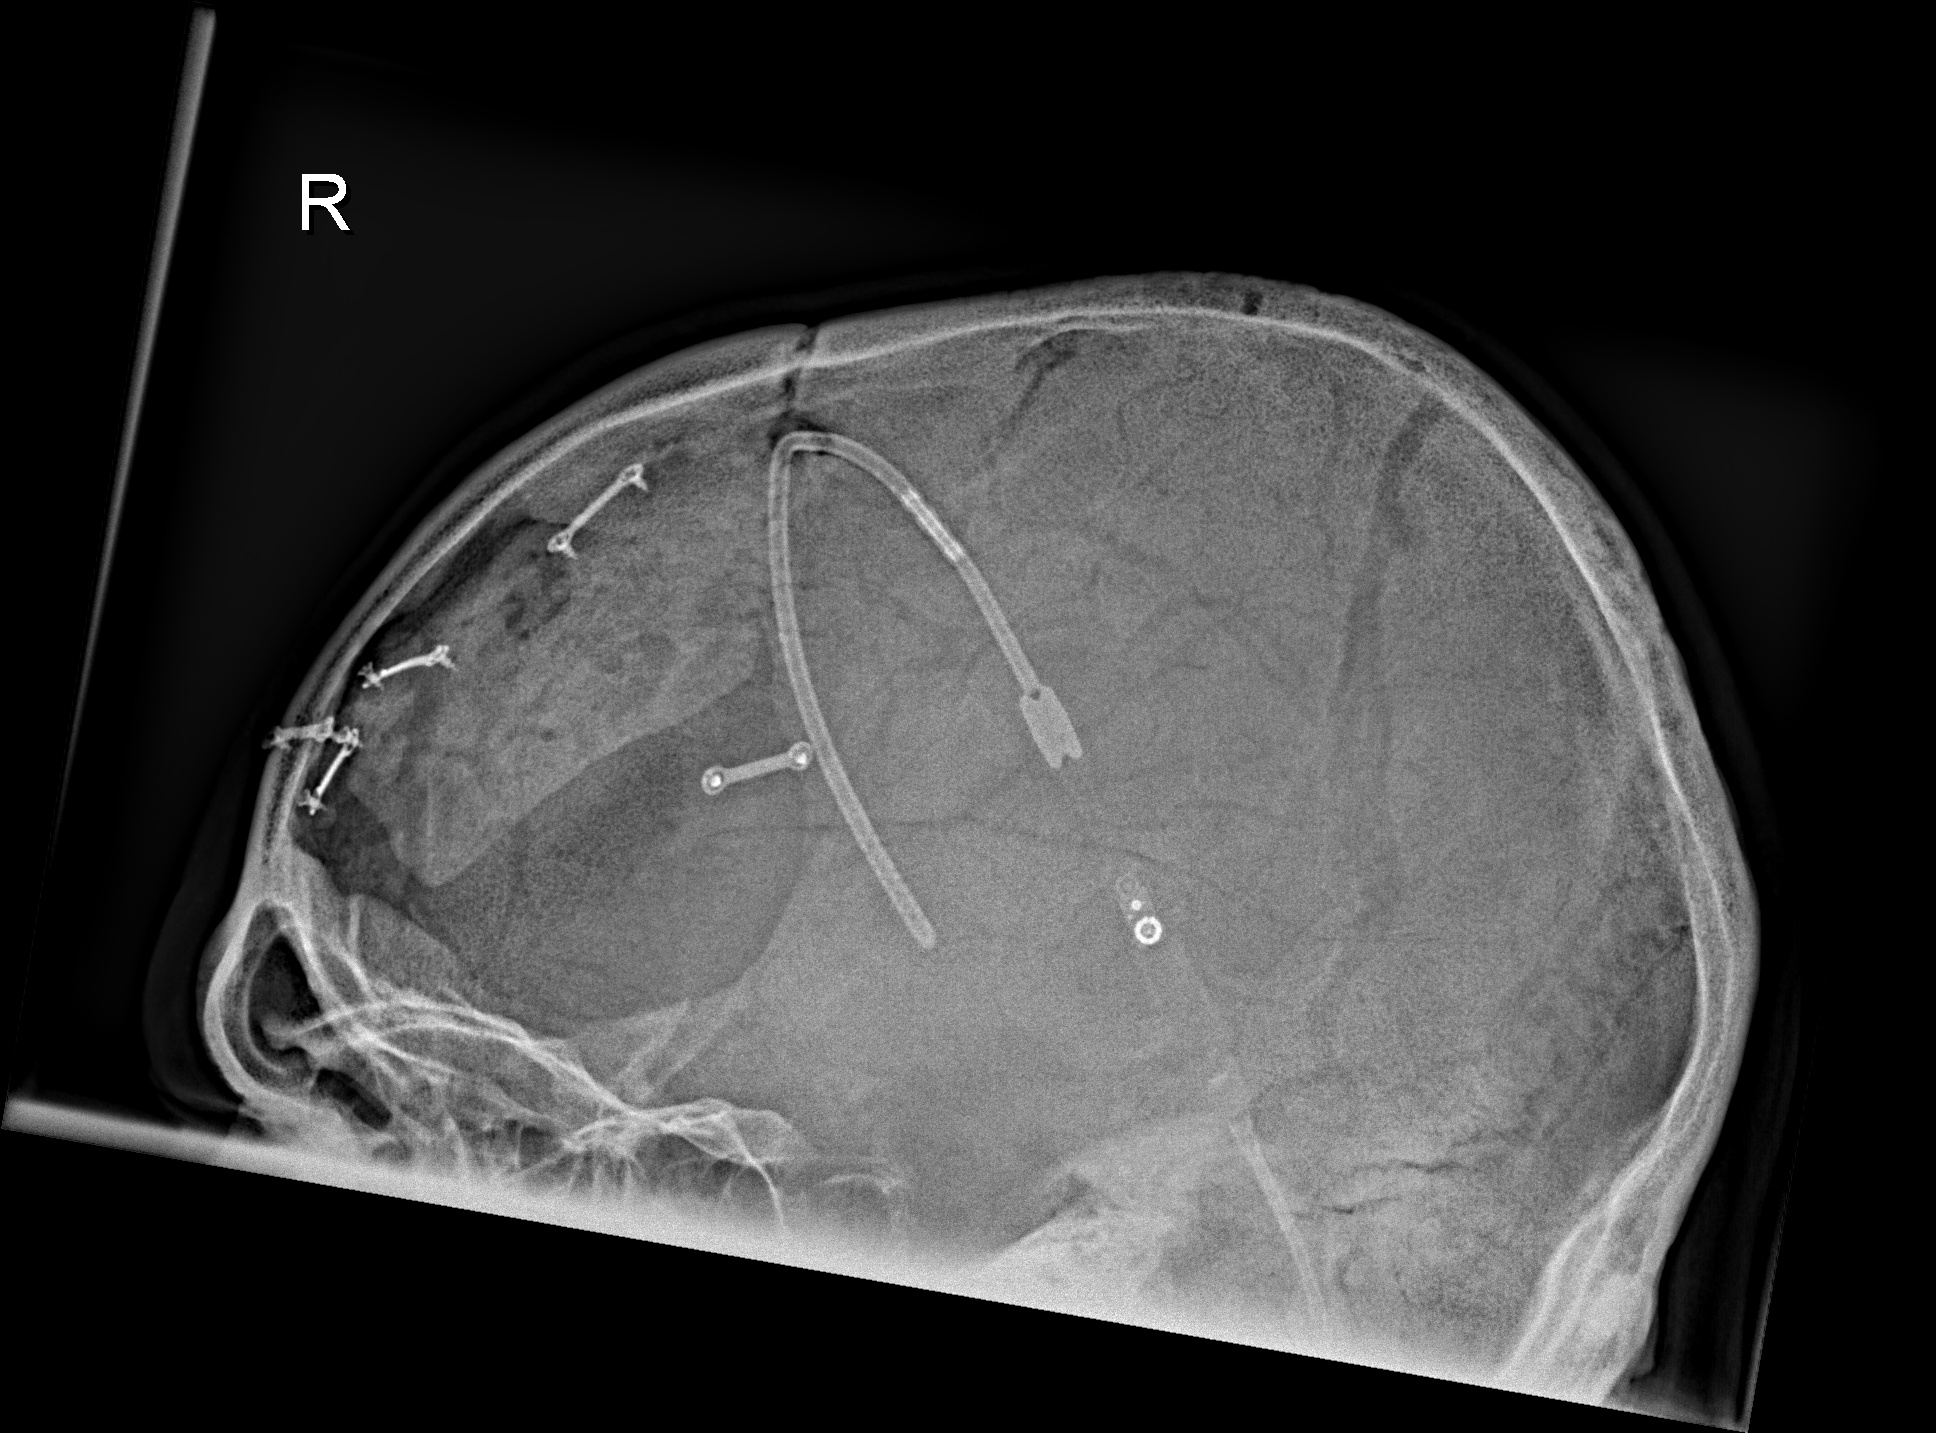Codman Hakim: (1108, 881, 1173, 962)
